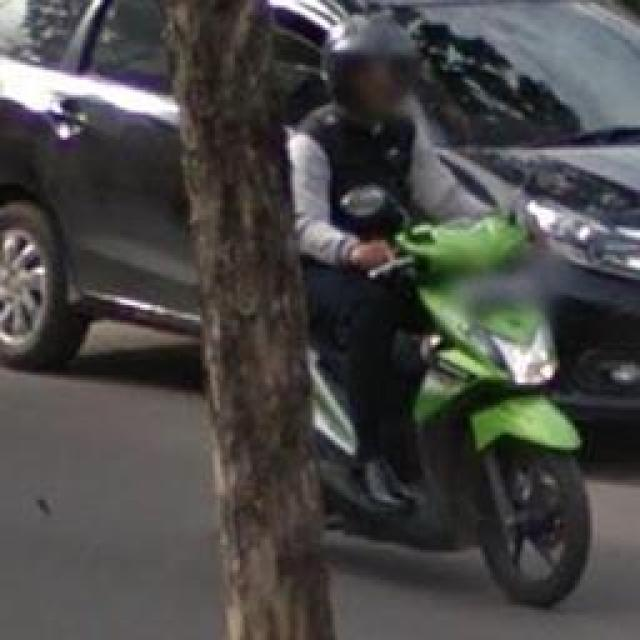Mobil: (241, 2, 638, 430), (0, 0, 203, 369)
Motor: (308, 198, 592, 608)
